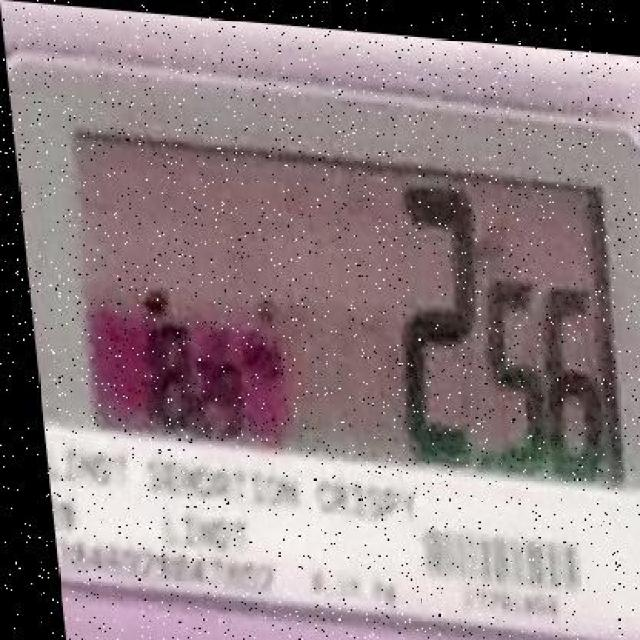display: (73, 134, 624, 490)
frame: (383, 174, 609, 481), (137, 317, 253, 452)
gauge: (0, 0, 640, 640)
